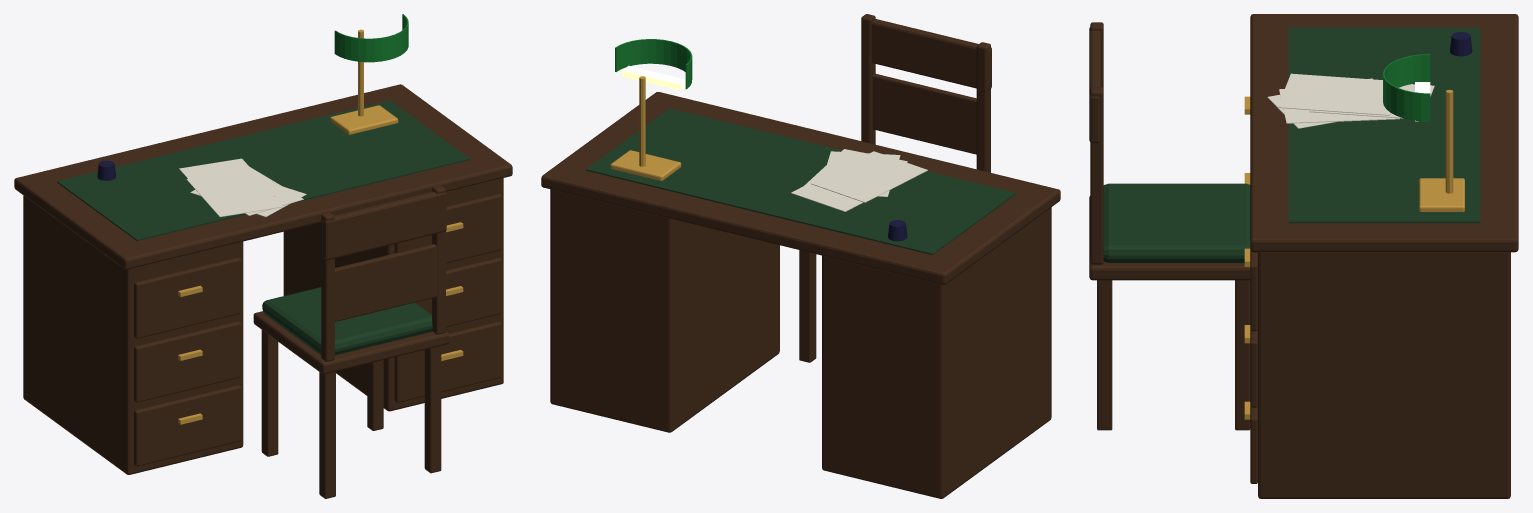
The model's file is writing_desk.glb.
3 views of the same model, side by side, from view 1: azimuth 30°, elevation 25°; view 2: azimuth 150°, elevation 25°; view 3: azimuth 270°, elevation 25° (orthographic). The views are drawn at different scales.
Visible parts, largest first — view 1: writing_desk; view 2: writing_desk; view 3: writing_desk.
Boxes of the visible parts, x1,y1,x2,y2 form: writing_desk: [14, 14, 512, 498]; writing_desk: [541, 14, 1060, 498]; writing_desk: [1089, 14, 1518, 498].
Size of the model in its own units: 1.4 by 1.14 by 1.12.
